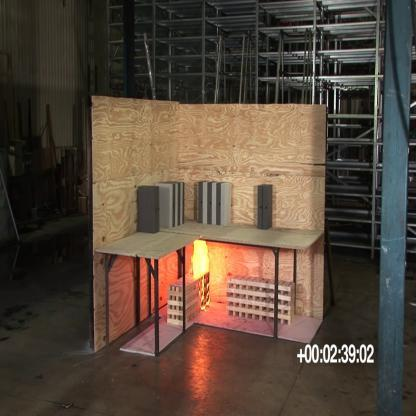fire: (181, 228, 214, 310)
